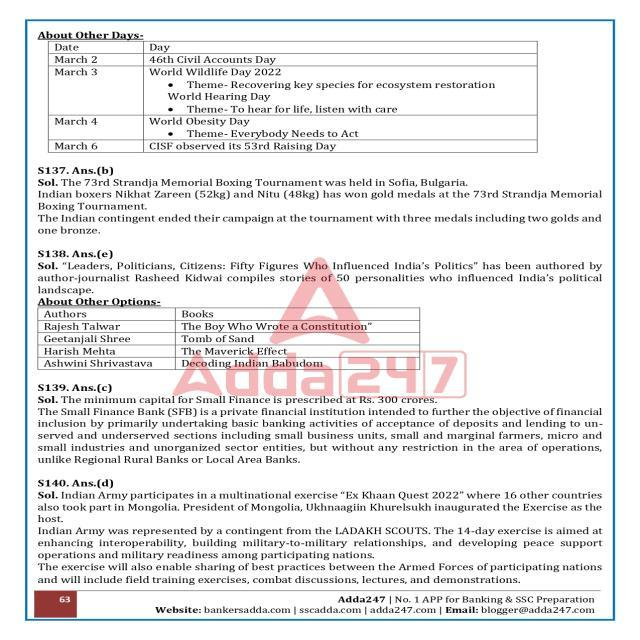Answer_Block: (29, 25, 609, 162), (29, 241, 609, 378), (33, 473, 608, 587), (29, 378, 607, 471), (29, 162, 609, 240)
Question_Paper_Area: (32, 25, 612, 588)
